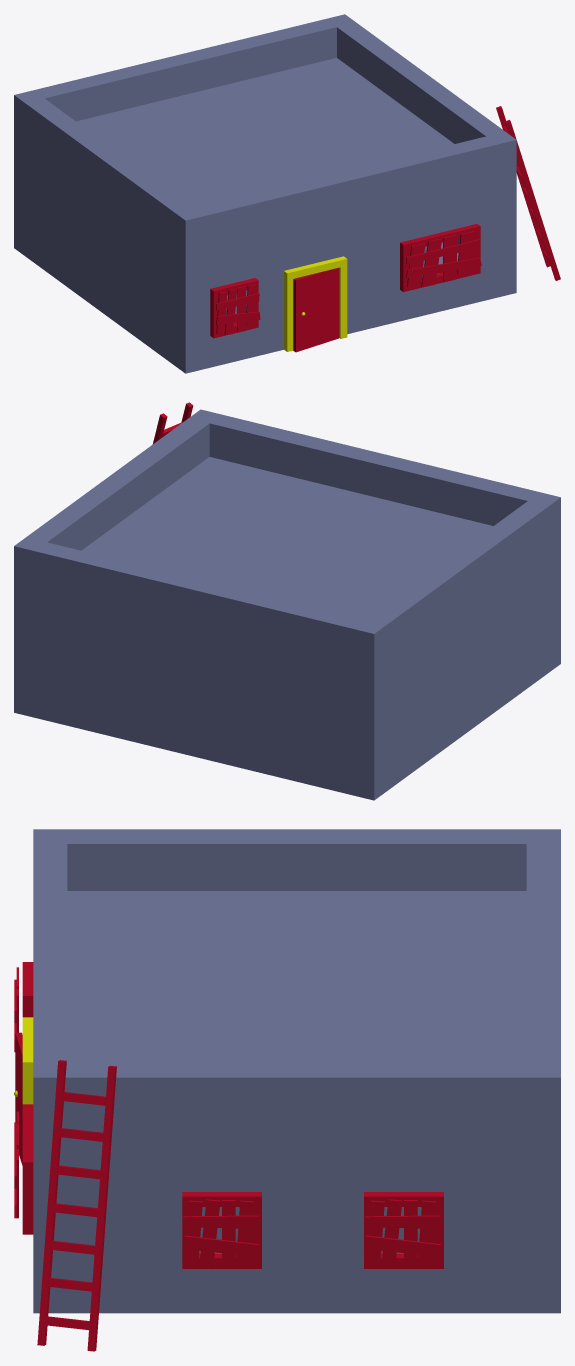
The model's file is House.fbx.
The picture shows the model from 3 angles, top to bottom: view 1: azimuth 30°, elevation 25°; view 2: azimuth 150°, elevation 25°; view 3: azimuth 270°, elevation 25°; orthographic projection. The views are drawn at different scales.
Parts seen in each view (by area): view 1: polySurface404, Red, polySurface419; view 2: polySurface404; view 3: polySurface404, Red, polySurface419.
Boxes of the visible parts, box(x1,y1,x2,y2) form: polySurface404: box(14, 14, 516, 373); Red: box(210, 106, 560, 352); polySurface419: box(284, 256, 347, 351); polySurface404: box(14, 409, 560, 800); polySurface404: box(33, 829, 560, 1313); Red: box(14, 962, 443, 1351); polySurface419: box(14, 1017, 33, 1104).
Size of the model in its own units: 84.71 by 34.66 by 67.73.
